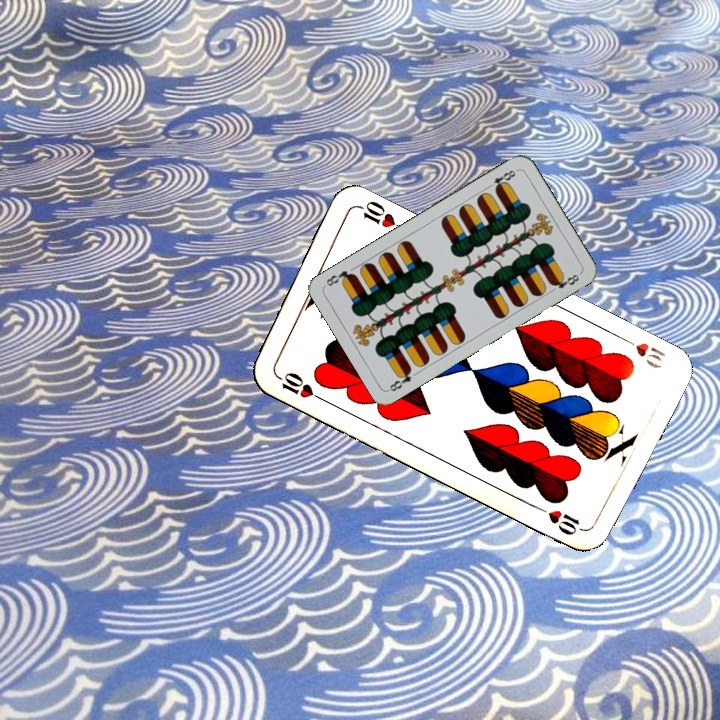E8: (483, 166, 520, 194), (385, 364, 414, 394)
H10: (615, 332, 669, 371), (271, 368, 326, 404)
